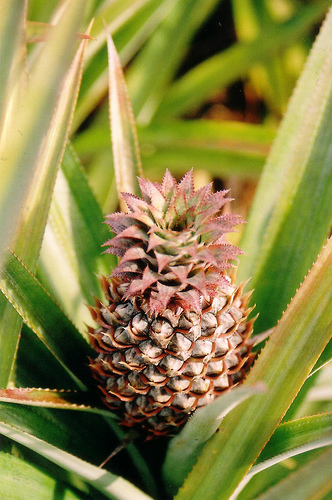pineapple: (80, 164, 258, 447)
